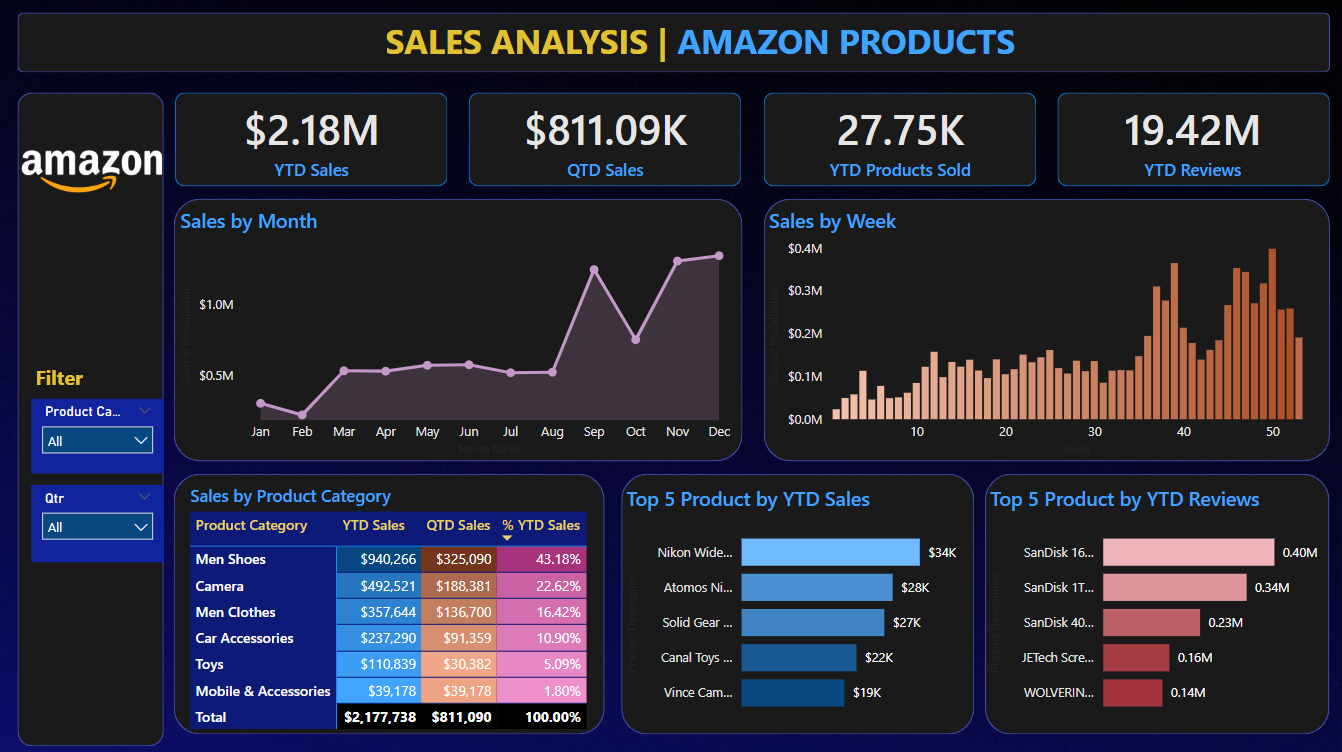

The dashboard page shown, as its layout file describes it:
{"tool":"powerbi","page":{"name":"Page 1","canvas":[1280,720],"ordinal":0},"visuals":[{"type":"shape","box":[16.7,11.9,1250,57.1],"z":0},{"type":"shape","box":[166.7,88.1,259.5,89.3],"z":1000},{"type":"textbox","box":[361.9,11.9,613.1,76.2],"z":2000},{"type":"card","fields":{"Values":["Amazon_Data.YTD Sales"]},"box":[166.7,88.1,260.7,89.3],"z":3000},{"type":"shape","box":[16.7,88.1,139.3,622.6],"z":4000},{"type":"shape","box":[446.8,88.1,259.5,89.3],"z":5000},{"type":"shape","box":[727,88.1,259.5,89.3],"z":6000},{"type":"card","fields":{"Values":["Amazon_Data.QTD Sales"]},"box":[446.4,88.1,260.7,89.3],"z":7000},{"type":"shape","box":[1007.1,88.1,259.5,89.3],"z":8000},{"type":"card","fields":{"Values":["Amazon_Data.YTD Products Sold"]},"box":[727.4,88.1,260.7,89.3],"z":9000},{"type":"card","fields":{"Values":["Amazon_Data.YTD Reviews"]},"box":[1006,88.1,260.7,89.3],"z":10000},{"type":"shape","box":[165.5,189.3,541.7,250],"z":11000},{"type":"stackedAreaChart","title":"Sales by Month","fields":{"Category":["Calendar Table.Month Name"],"Y":["Sum(Amazon_Data.Price(Dollar))"]},"box":[166.7,197.6,539.3,241.7],"z":12000},{"type":"shape","box":[727.4,189.3,539.3,250],"z":13000},{"type":"columnChart","title":"Sales by Week","fields":{"Category":["Calendar Table.Week"],"Y":["Sum(Amazon_Data.Price(Dollar))"]},"box":[727.4,197.6,539.3,241.7],"z":14000},{"type":"shape","box":[166,451.5,410.3,248.4],"z":15000},{"type":"pivotTable","title":"Sales by Product Category","fields":{"Rows":["Amazon_Data.Product Category"],"Values":["Amazon_Data.YTD Sales1","Amazon_Data.QTD Sales","Amazon_Data.YTD Sales"]},"box":[176.2,460.7,391.7,239.3],"z":16000},{"type":"shape","box":[591.4,451.5,336.2,248.4],"z":17000},{"type":"clusteredBarChart","title":"Top 5 Product by YTD Sales","fields":{"Category":["Amazon_Data.Product Description"],"Y":["Amazon_Data.YTD Sales"]},"box":[591.4,462.4,336.2,230.5],"z":18000},{"type":"shape","box":[938.6,451.5,328,248.4],"z":19000},{"type":"clusteredBarChart","title":"Top 5 Product by YTD Reviews","fields":{"Category":["Amazon_Data.Product Description"],"Y":["Amazon_Data.YTD Reviews"]},"box":[938.6,462.4,328,230.5],"z":20000},{"type":"slicer","fields":{"Values":["Amazon_Data.Product Category"]},"box":[29.8,379.8,126.2,71.4],"z":21000},{"type":"slicer","fields":{"Values":["Calendar Table.Qtr"]},"box":[29.8,461.9,126.2,73.8],"z":22000},{"type":"textbox","box":[28.6,341.7,72.6,35.7],"z":23000},{"type":"image","box":[0,69,176.2,183.3],"z":24000}]}

Visuals, with their boxes in screenshot pixels (x1, y1, x2, y2), scaled from the page's 1280x720 canvas onto the 1342x752 screenshot:
shape: <box>18,12,1328,72</box>
shape: <box>175,92,447,185</box>
textbox: <box>379,12,1022,92</box>
card - Amazon_Data.YTD Sales: <box>175,92,448,185</box>
shape: <box>18,92,164,742</box>
shape: <box>468,92,741,185</box>
shape: <box>762,92,1034,185</box>
card - Amazon_Data.QTD Sales: <box>468,92,741,185</box>
shape: <box>1056,92,1328,185</box>
card - Amazon_Data.YTD Products Sold: <box>763,92,1036,185</box>
card - Amazon_Data.YTD Reviews: <box>1055,92,1328,185</box>
shape: <box>174,198,741,459</box>
"Sales by Month" stackedAreaChart: <box>175,206,740,459</box>
shape: <box>763,198,1328,459</box>
"Sales by Week" columnChart: <box>763,206,1328,459</box>
shape: <box>174,472,604,731</box>
"Sales by Product Category" pivotTable: <box>185,481,595,731</box>
shape: <box>620,472,973,731</box>
"Top 5 Product by YTD Sales" clusteredBarChart: <box>620,483,973,724</box>
shape: <box>984,472,1328,731</box>
"Top 5 Product by YTD Reviews" clusteredBarChart: <box>984,483,1328,724</box>
slicer - Amazon_Data.Product Category: <box>31,397,164,471</box>
slicer - Calendar Table.Qtr: <box>31,482,164,560</box>
textbox: <box>30,357,106,394</box>
image: <box>0,72,185,264</box>
